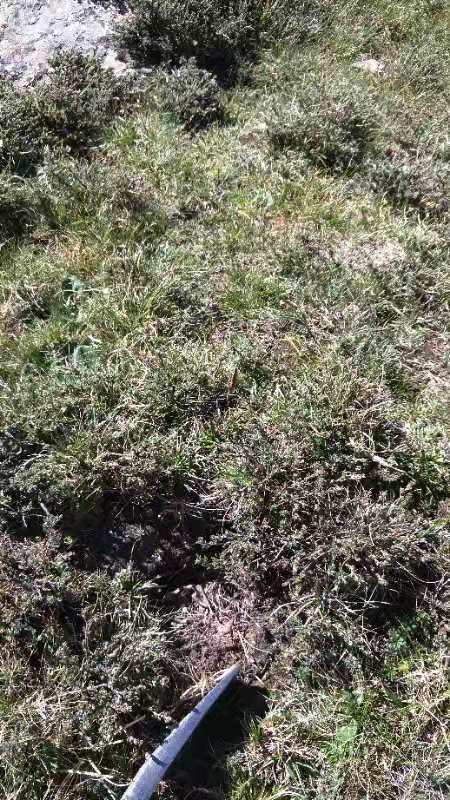cpf: (230, 366, 244, 396)
